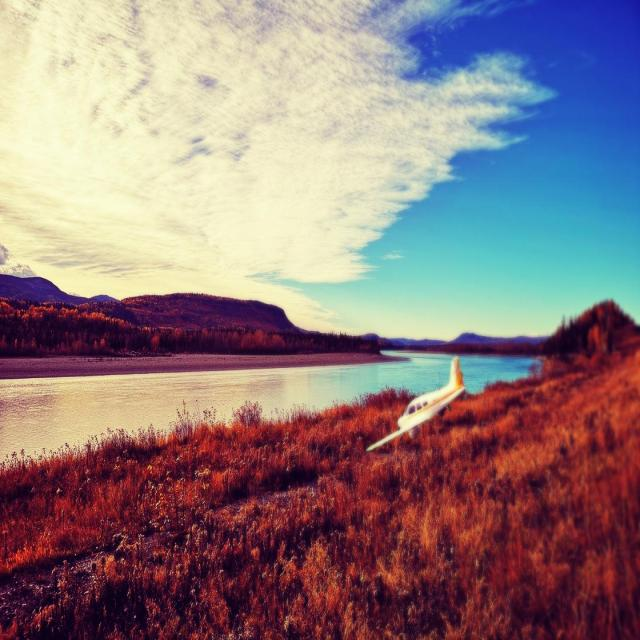airplane: (365, 355, 466, 452)
